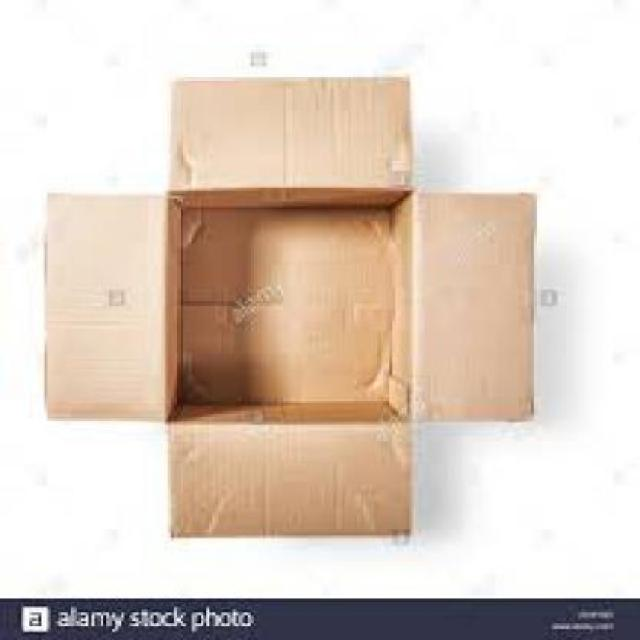CARDBOARD: (38, 72, 531, 534), (174, 201, 389, 405)
